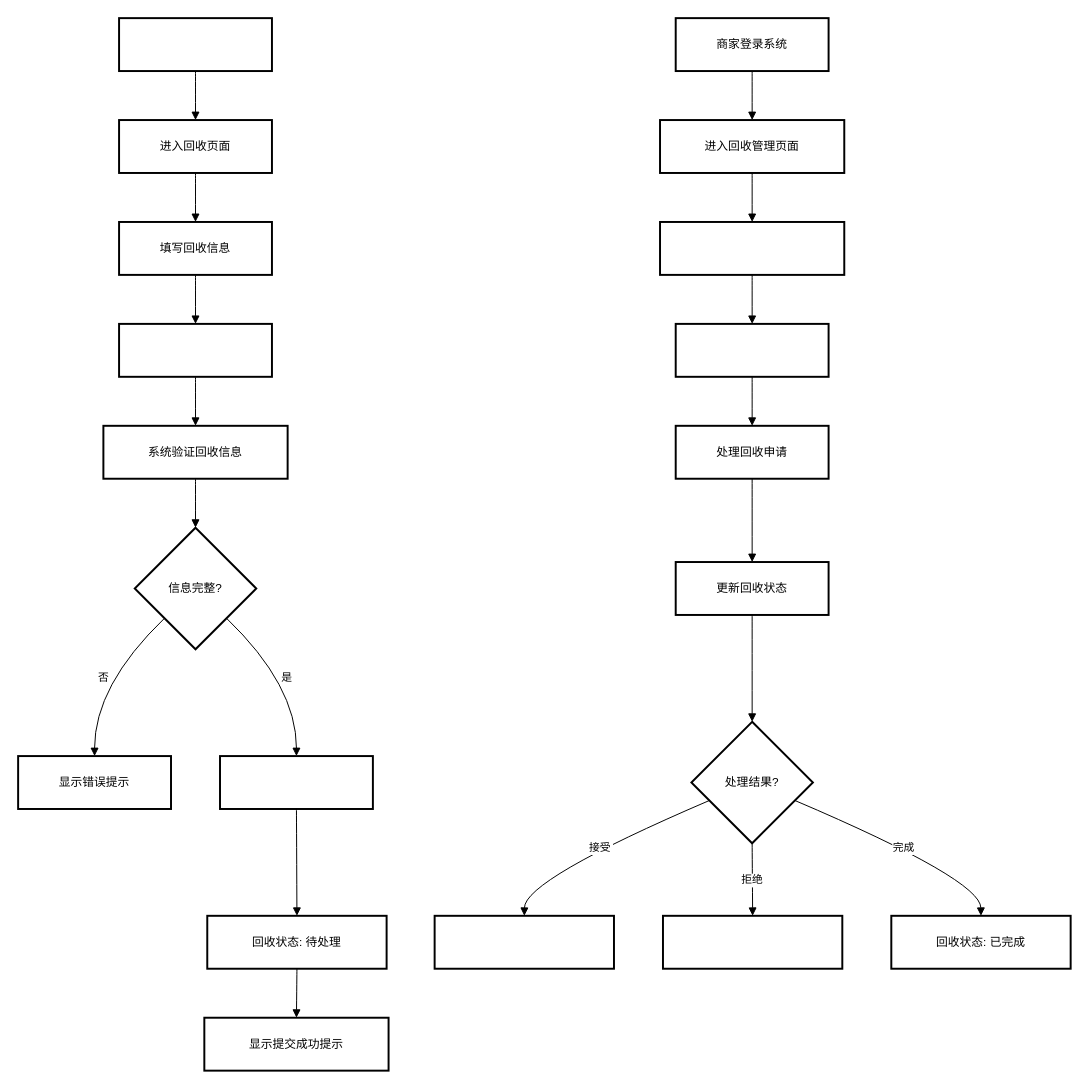
Image size: 1088x1088. Some labels were removed from this diagram. The shapes that lost their labels are listed below. From the top down, each one's box as (x1, y1, x2, y2) in pixels, then its label:
(118, 17, 272, 72): 用户登录系统
(659, 220, 845, 275): 查看回收申请列表
(118, 322, 272, 377): 点击提交按钮
(674, 322, 829, 377): 选择回收申请
(219, 755, 373, 809): 保存回收申请
(433, 914, 614, 969): 回收状态: 已接受
(662, 914, 843, 969): 回收状态: 已拒绝
